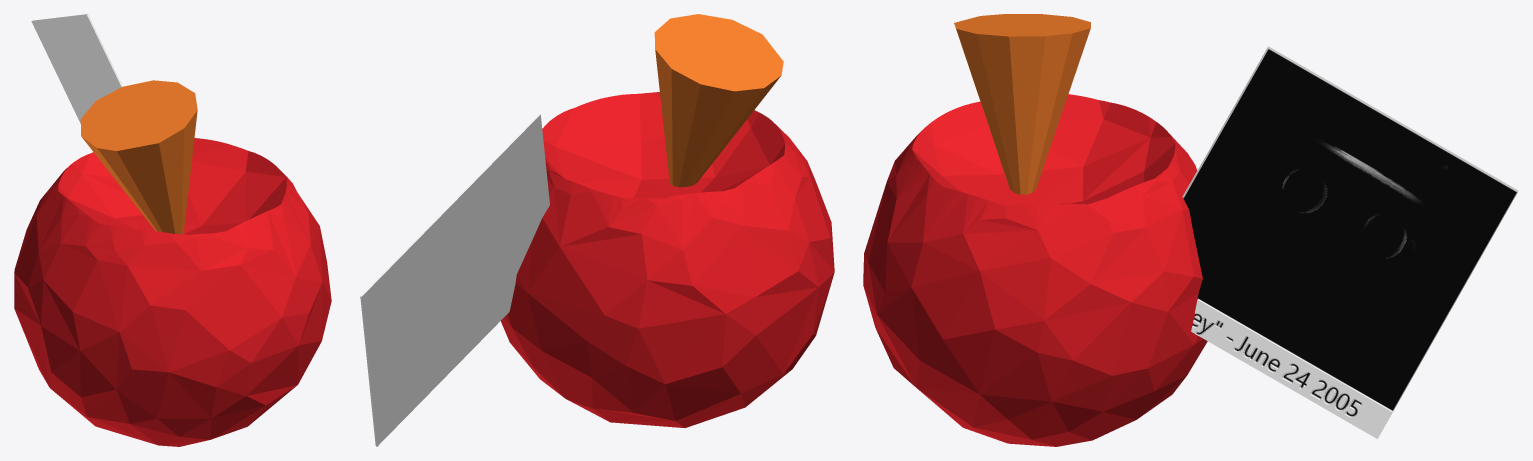
Rendered from cherryWithDon2005.glb.
3 views of the same model, side by side, from view 1: azimuth 30°, elevation 25°; view 2: azimuth 150°, elevation 25°; view 3: azimuth 270°, elevation 25° (orthographic). The views are drawn at different scales.
Size of the model in its own units: 0.0399 by 0.0476 by 0.0719.
Materials: 4 (1 with a texture image).
